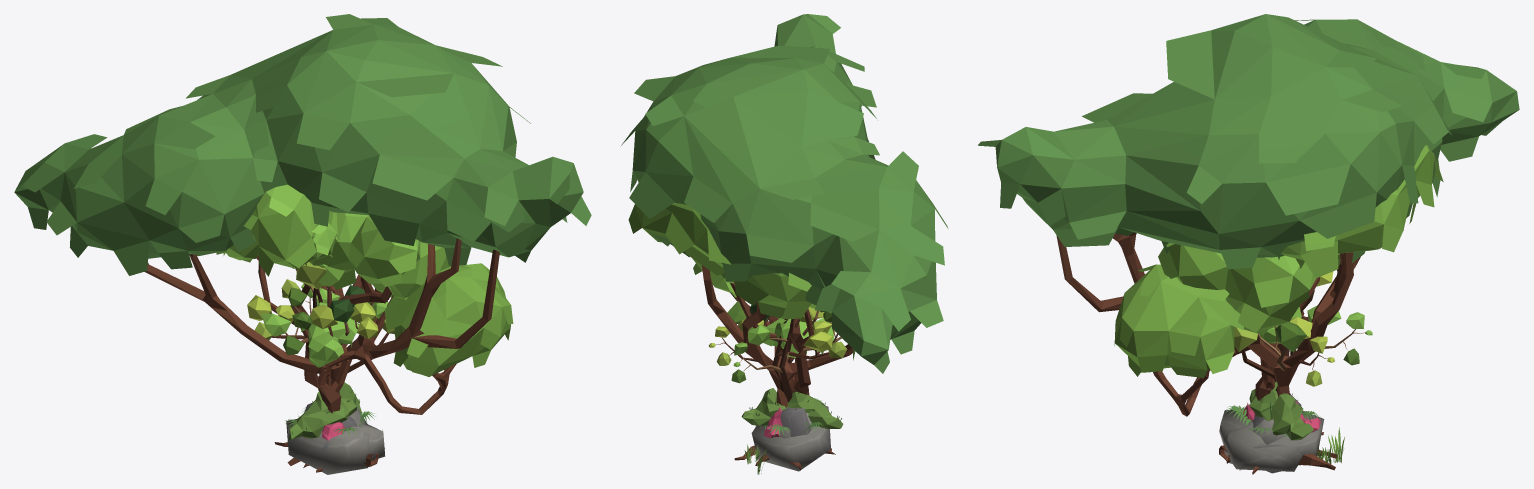
Rendered from props.gltf.
The picture shows the model from 3 angles, left to right: view 1: azimuth 30°, elevation 25°; view 2: azimuth 150°, elevation 25°; view 3: azimuth 270°, elevation 25°; orthographic projection. The views are drawn at different scales.
Parts seen in each view (by area): view 1: Tree.005, Tree.003, Tree.002, Tree.004, Tree.001, Rock2-col, Tree, Plant.012, Rock3-col; view 2: Tree.005, Tree.002, Rock2-col, Tree.004, Tree.001, Plant.012, Tree.003, Tree, Rock4-col; view 3: Tree.005, Tree.002, Tree.003, Rock3-col, Plant.012, Tree.004, Tree.001, Rock2-col.
Boxes of the visible parts, left/top/right/bottom form: Tree.005: left=14, top=14, right=591, bottom=467; Tree.003: left=216, top=184, right=461, bottom=465; Tree.002: left=256, top=255, right=513, bottom=472; Tree.004: left=247, top=262, right=394, bottom=384; Tree.001: left=261, top=264, right=388, bottom=382; Rock2-col: left=286, top=419, right=377, bottom=474; Tree: left=301, top=222, right=359, bottom=386; Plant.012: left=288, top=382, right=361, bottom=440; Rock3-col: left=345, top=424, right=385, bottom=462; Tree.005: left=621, top=14, right=948, bottom=470; Tree.002: left=628, top=202, right=814, bottom=392; Rock2-col: left=751, top=405, right=830, bottom=471; Tree.004: left=709, top=306, right=847, bottom=391; Tree.001: left=727, top=301, right=841, bottom=402; Plant.012: left=741, top=388, right=843, bottom=428; Tree.003: left=692, top=258, right=835, bottom=474; Tree: left=724, top=278, right=835, bottom=392; Rock4-col: left=780, top=407, right=811, bottom=436; Tree.005: left=978, top=14, right=1519, bottom=474; Tree.002: left=1114, top=145, right=1443, bottom=416; Tree.003: left=1158, top=243, right=1344, bottom=470; Rock3-col: left=1224, top=421, right=1301, bottom=471; Plant.012: left=1249, top=381, right=1313, bottom=440; Tree.004: left=1234, top=271, right=1334, bottom=393; Tree.001: left=1258, top=305, right=1372, bottom=371; Rock2-col: left=1219, top=409, right=1324, bottom=465.
Size of what is drawn, in the model's own units: 10.93 by 11.32 by 12.46.
Materials: 3 (3 with a texture image).
